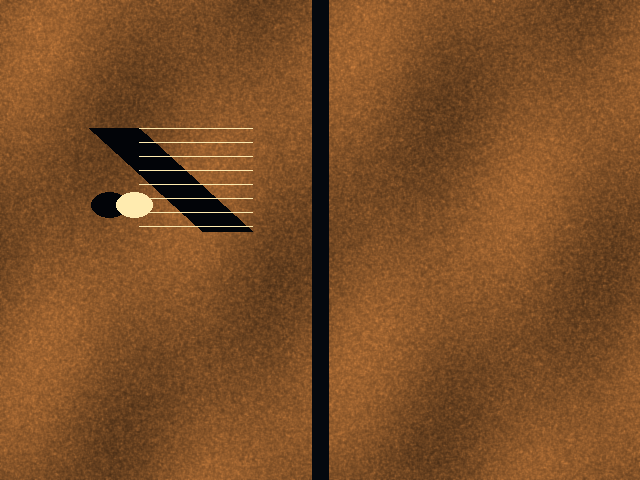Bottle: (116, 192, 152, 217)
Fishing Net: (139, 128, 252, 231)
